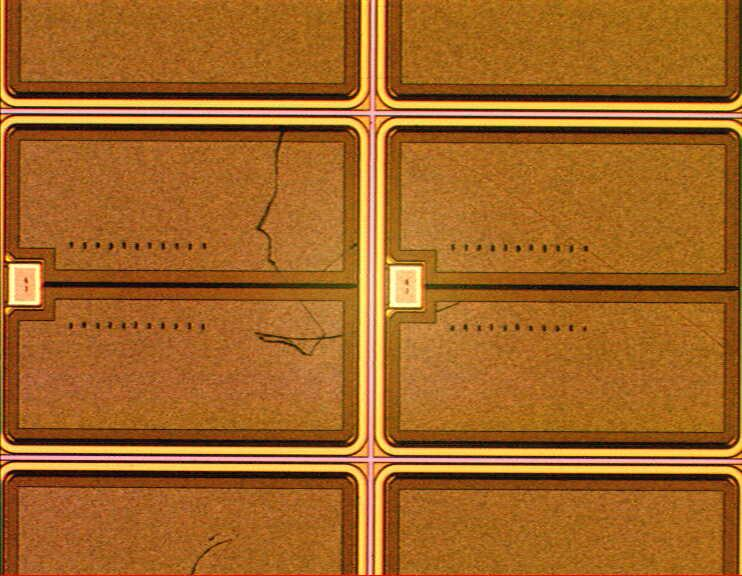SCRATCH: (183, 107, 742, 576)
